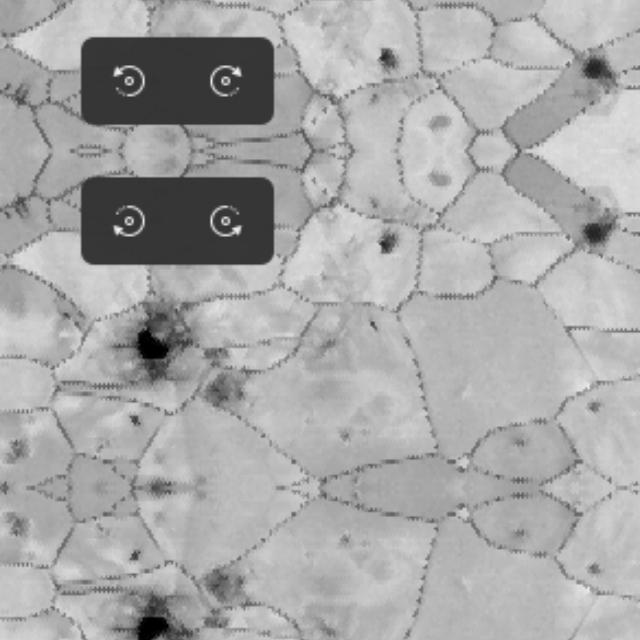good_void: (196, 337, 254, 413), (196, 565, 254, 640), (134, 319, 180, 369), (134, 609, 180, 640), (580, 220, 619, 249), (580, 54, 619, 83), (373, 46, 400, 74), (373, 229, 400, 256), (426, 167, 455, 190), (426, 113, 455, 136), (11, 438, 31, 466), (11, 512, 31, 540), (579, 399, 607, 418), (579, 560, 607, 579), (336, 427, 361, 445), (336, 533, 361, 551), (13, 198, 31, 222), (13, 81, 31, 105), (507, 438, 535, 453), (507, 525, 535, 540), (366, 195, 384, 212), (366, 91, 384, 108), (127, 413, 142, 433), (127, 545, 142, 565), (366, 316, 379, 337), (146, 481, 173, 489), (146, 489, 173, 497), (310, 176, 320, 188), (310, 115, 320, 126), (322, 187, 329, 197), (322, 106, 329, 116)
